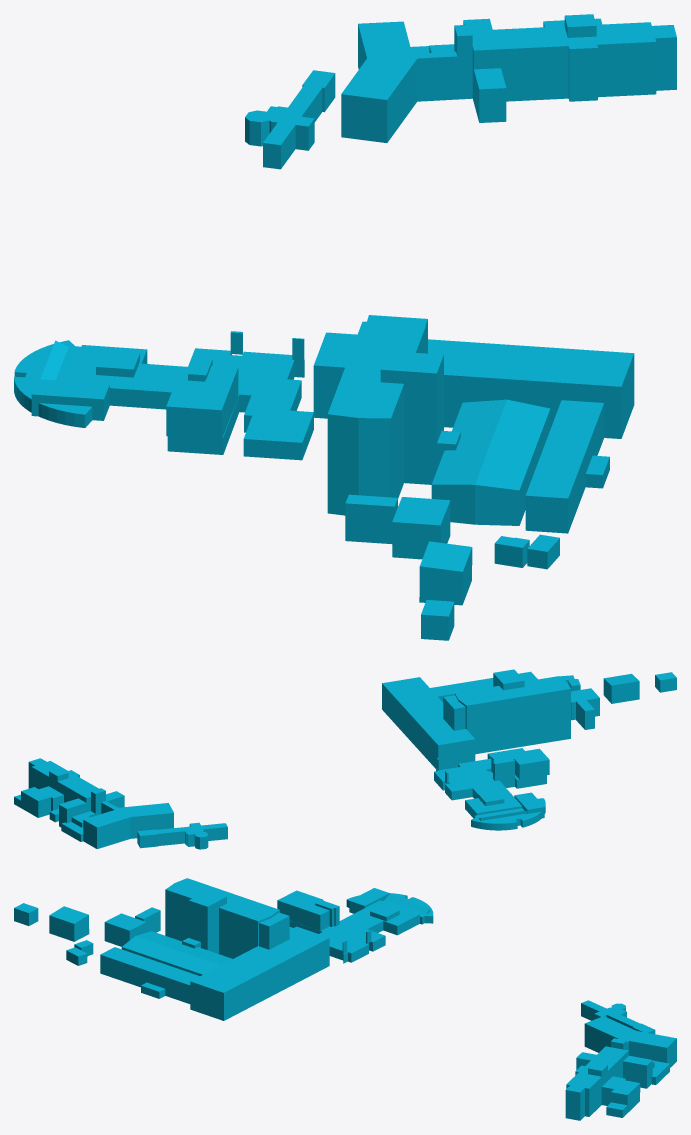
File: CCSPT-MSA.glb
The picture shows the model from 3 angles, top to bottom: view 1: azimuth 30°, elevation 25°; view 2: azimuth 150°, elevation 25°; view 3: azimuth 270°, elevation 25°; orthographic projection. The views are drawn at different scales.
Visible parts, largest first — view 1: Edificis, Masa 1; view 2: Edificis, Masa 1; view 3: Masa 1, Edificis.
Boxes of the visible parts, x1,y1,x2,y2 form: Edificis: (14, 14, 676, 640); Masa 1: (313, 315, 634, 533); Edificis: (14, 672, 676, 849); Masa 1: (382, 669, 570, 770); Masa 1: (100, 878, 329, 1020); Edificis: (14, 888, 676, 1120).
Bounding box in the file's own units: 1061 × 142 × 1358.
